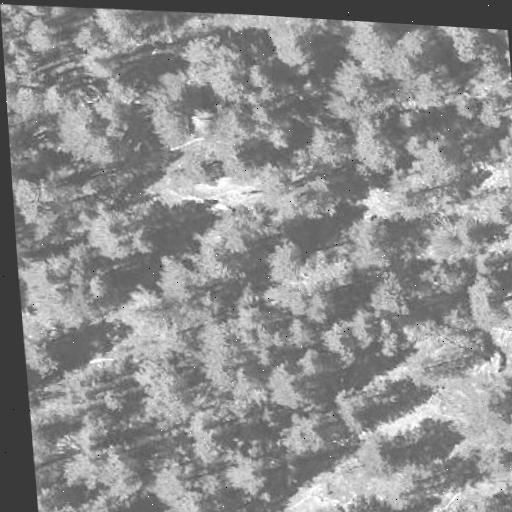tree-top: (16, 244, 110, 332), (395, 348, 495, 430), (45, 92, 127, 172), (57, 430, 144, 504), (72, 197, 154, 274), (175, 29, 255, 106), (193, 324, 261, 396), (212, 436, 279, 506), (398, 121, 464, 189), (337, 211, 401, 281), (141, 449, 212, 512), (139, 86, 201, 153), (260, 168, 335, 223), (132, 300, 204, 355), (133, 352, 194, 414), (344, 115, 403, 176), (377, 29, 439, 87), (315, 64, 382, 117), (272, 275, 332, 334), (412, 317, 483, 365), (273, 407, 330, 465), (11, 172, 63, 235), (212, 122, 267, 181), (22, 309, 69, 378), (297, 116, 353, 173), (475, 405, 512, 491), (427, 25, 489, 76), (73, 360, 127, 418), (461, 269, 512, 329), (360, 266, 418, 318), (273, 16, 331, 68), (146, 248, 199, 301), (95, 8, 153, 56), (327, 383, 377, 436), (229, 298, 281, 348), (17, 9, 66, 62), (91, 49, 137, 105), (264, 358, 311, 410), (344, 304, 393, 353), (341, 20, 385, 72), (421, 255, 472, 298), (385, 459, 431, 506), (359, 435, 401, 484), (302, 249, 347, 294), (266, 237, 309, 283), (196, 245, 240, 289), (216, 207, 261, 250), (180, 150, 228, 190), (450, 210, 490, 256), (471, 185, 512, 228), (414, 494, 508, 512), (322, 322, 363, 363), (185, 405, 225, 446), (473, 63, 512, 105), (4, 56, 35, 108), (35, 480, 78, 512), (288, 317, 324, 355), (72, 491, 136, 512), (68, 20, 102, 55), (262, 117, 295, 153), (30, 415, 57, 458), (7, 109, 24, 171), (479, 94, 508, 128), (493, 351, 512, 401), (292, 501, 346, 512), (504, 117, 512, 156), (500, 30, 509, 53)
